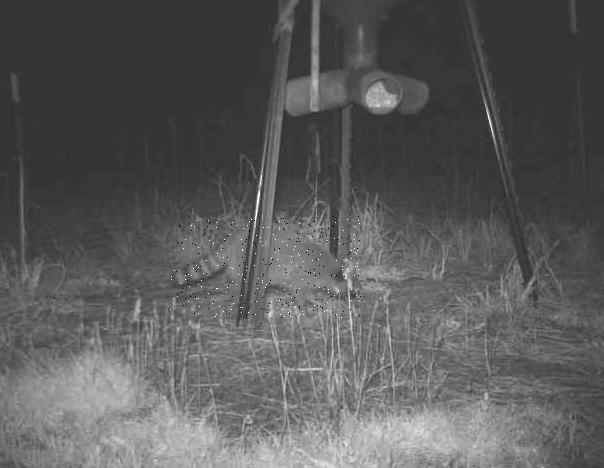Raccoon: (170, 216, 362, 318)
